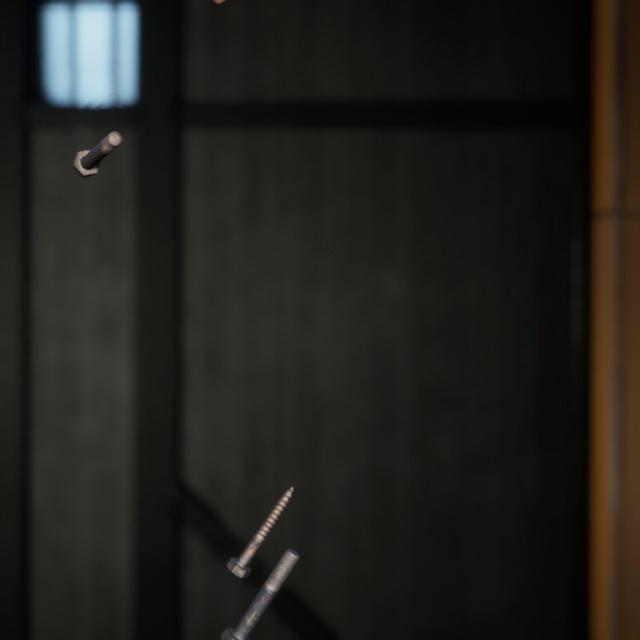bolt: (216, 520, 304, 634), (222, 458, 298, 560), (68, 113, 126, 168)
